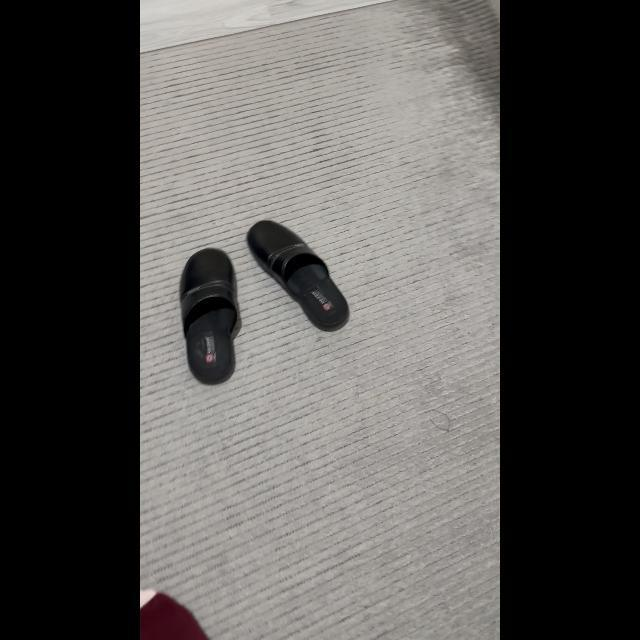slipper: (242, 211, 354, 335), (177, 242, 245, 388)
